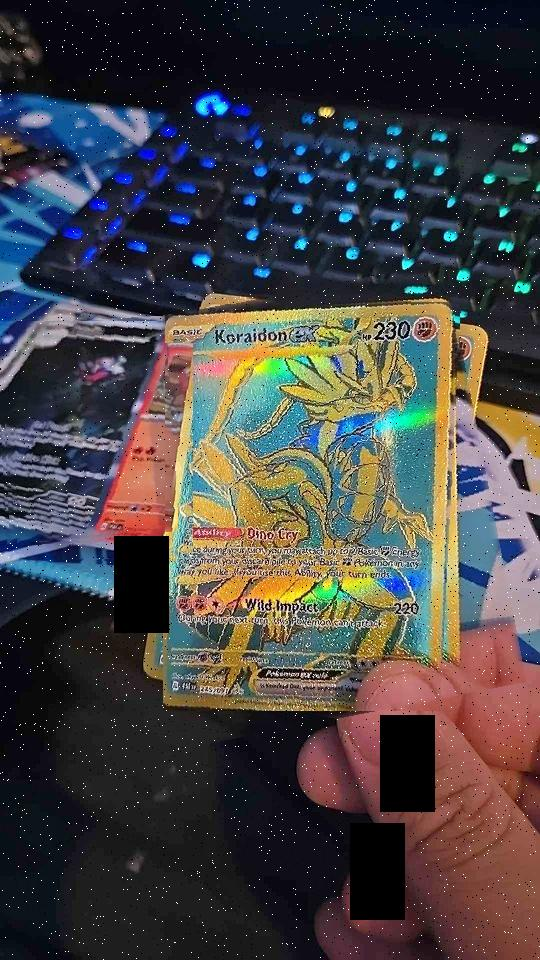card: (163, 303, 455, 711), (2, 321, 165, 539), (73, 343, 193, 557)
